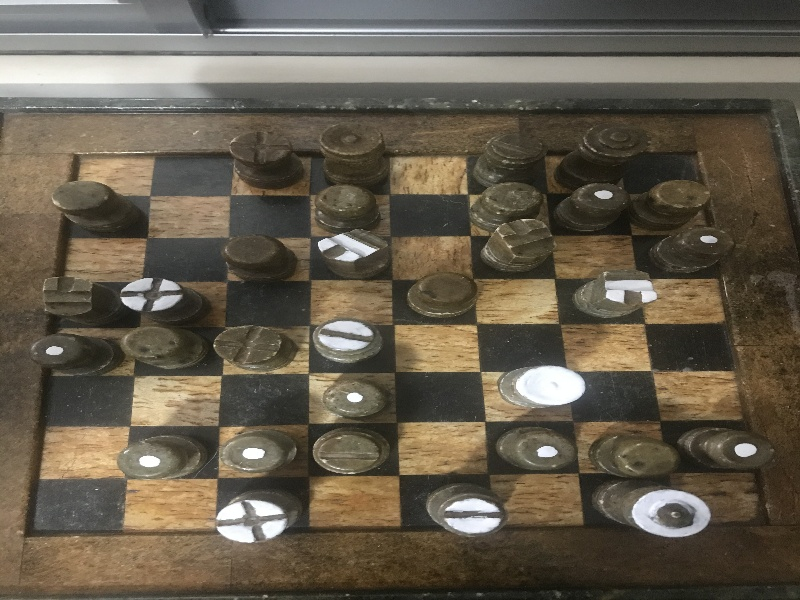WhiteBishop: (217, 491, 302, 543), (119, 278, 211, 322)
WhitePawn: (677, 426, 773, 472), (648, 227, 734, 275), (29, 335, 125, 378), (116, 435, 207, 478), (557, 184, 629, 234), (495, 427, 574, 472), (222, 428, 298, 472), (323, 380, 386, 419)
WhiteRook: (425, 483, 504, 535), (312, 318, 383, 365)
